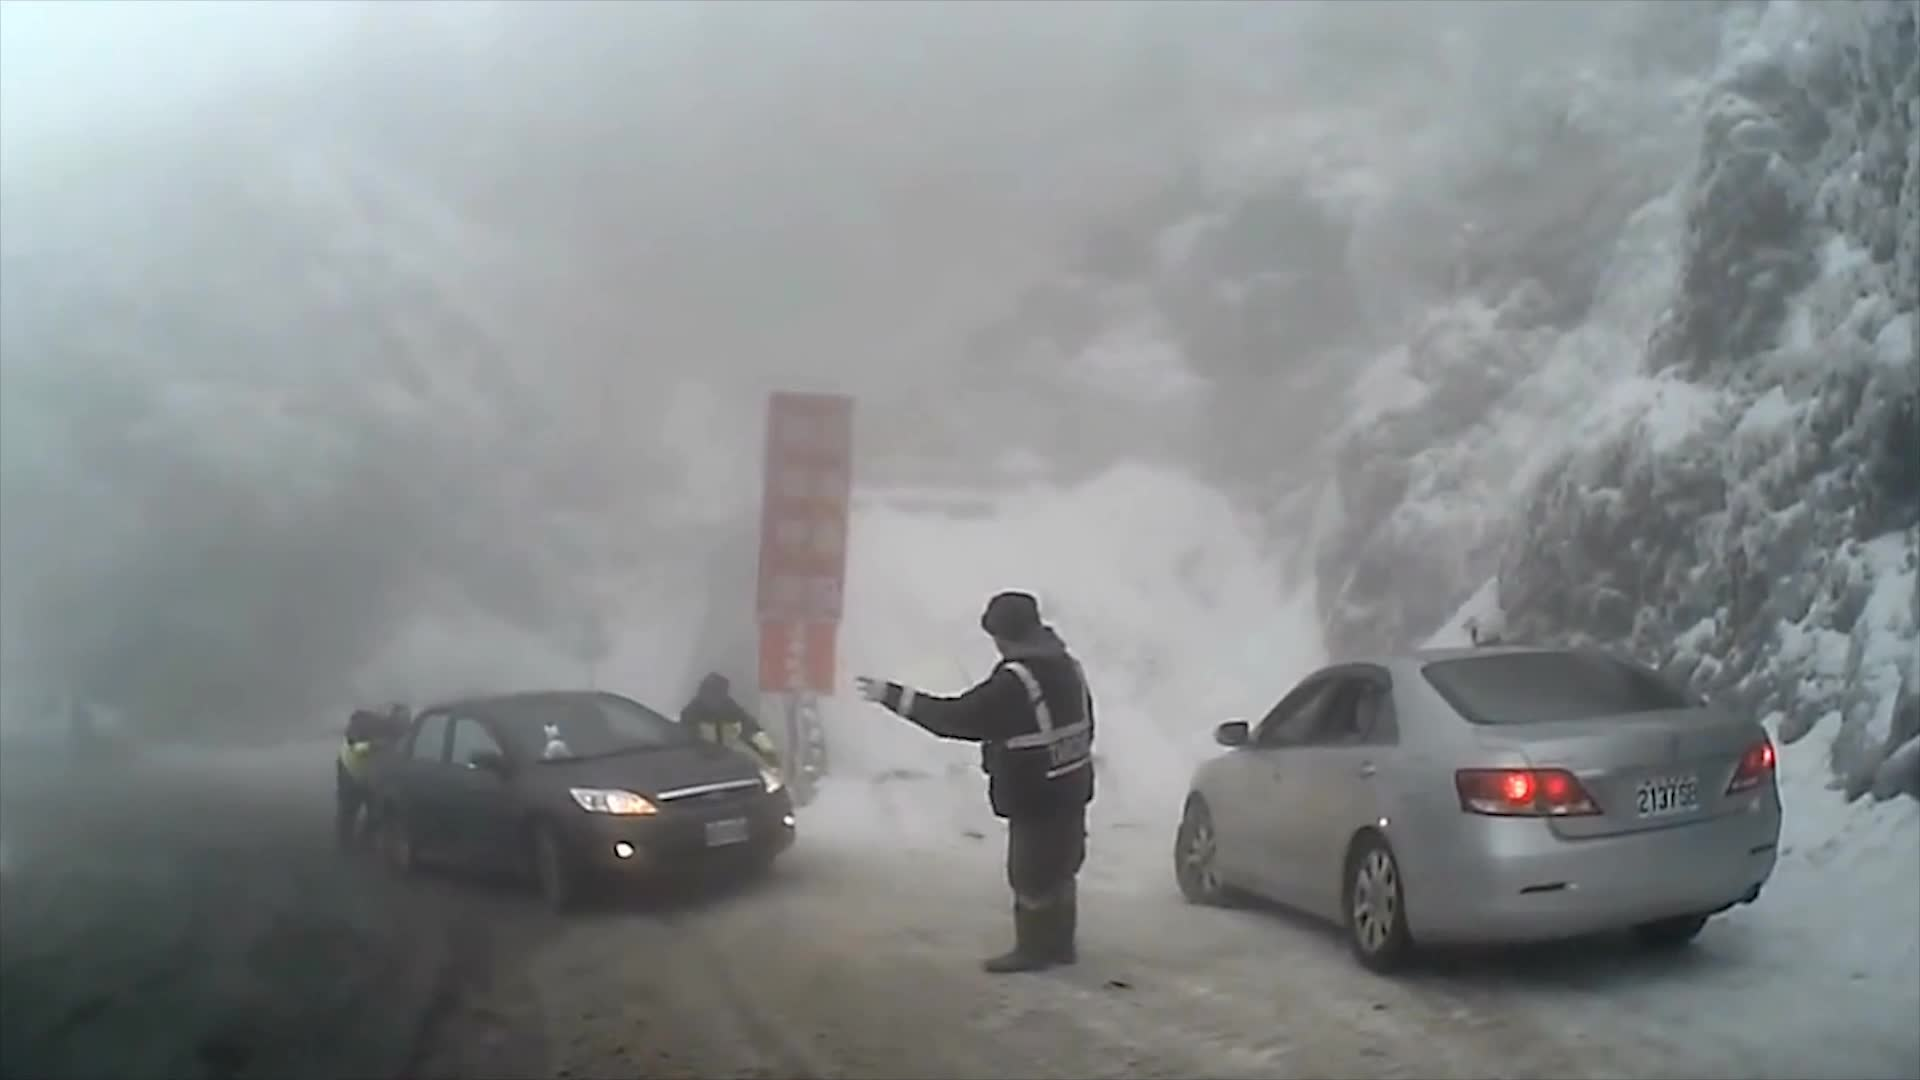pedestrian: (861, 591, 1098, 976), (1451, 609, 1533, 830), (680, 673, 778, 829), (333, 713, 407, 851)
vehicle: (1172, 644, 1782, 975), (364, 686, 796, 914)
